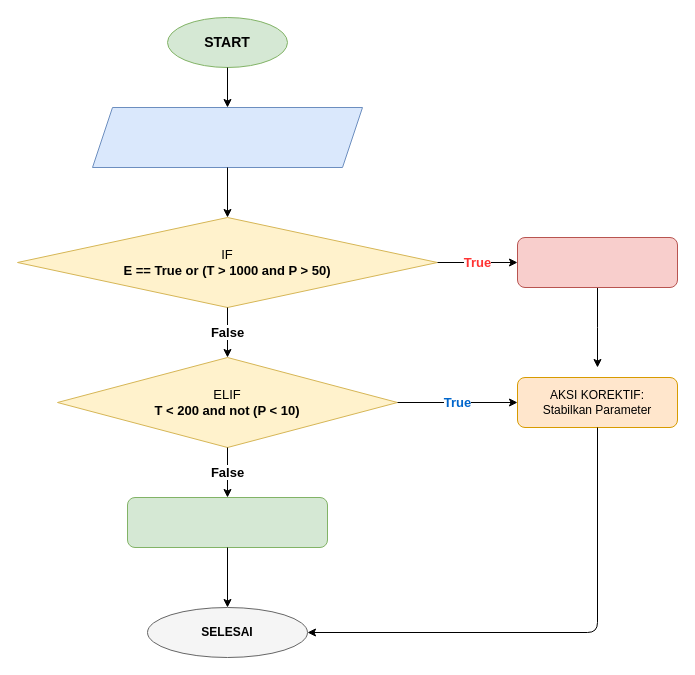
The diagram is 695 pixels wide and 675 high, and some of its shapes have lost their labels. The centre of each missing label's shape, as x and y in pixels:
Baca Sensor: Suhu (T), Tekanan (P), Darurat (E): the point at 227,137
BAHAYA: Shutdown Sistem: the point at 597,262
ELSE: Operasi Normal: the point at 227,522
